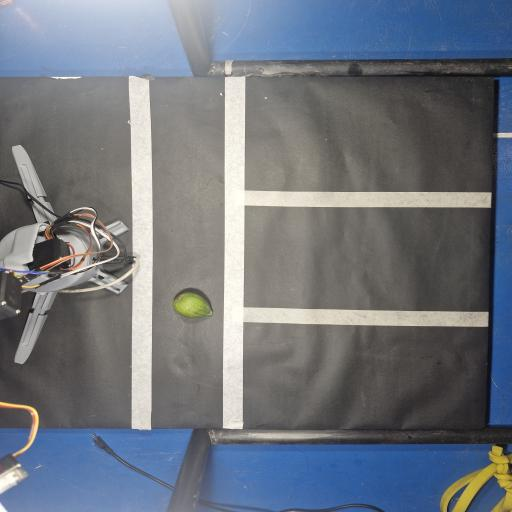higo: (173, 292, 212, 318)
